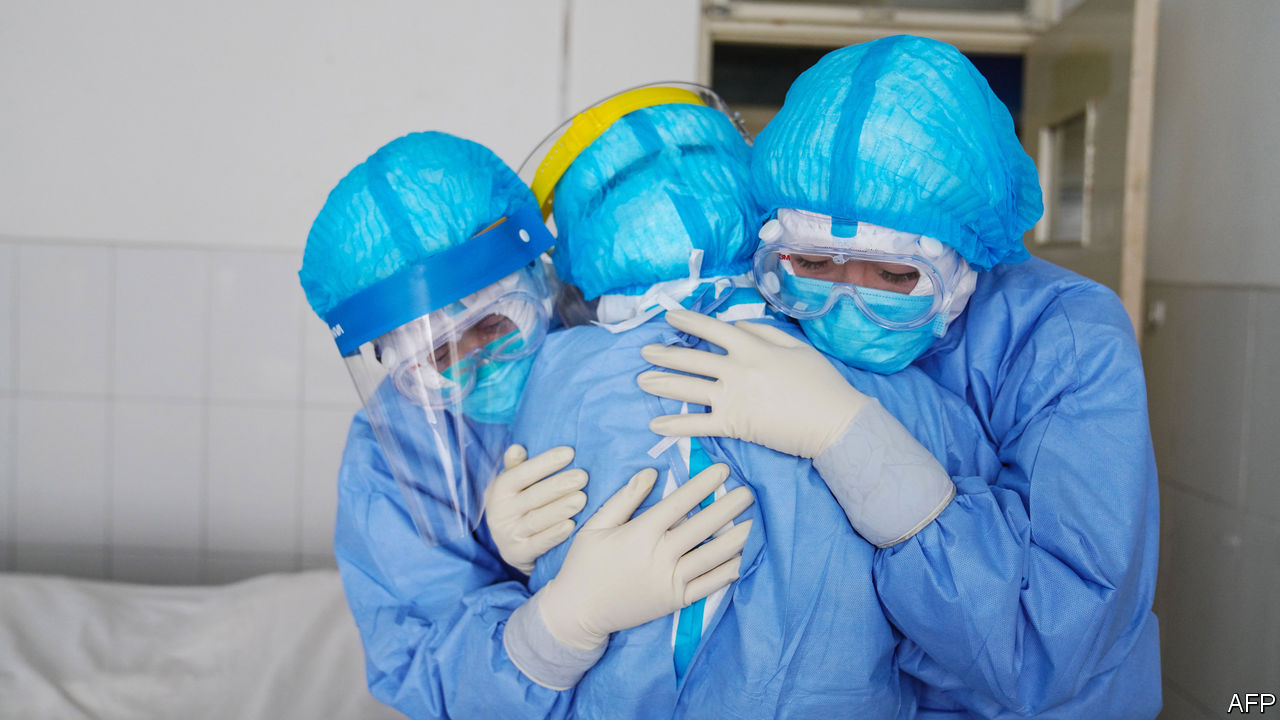Coverall: (501, 80, 960, 720), (749, 31, 1164, 720), (298, 130, 565, 720)
Face_Shield: (332, 228, 590, 551)
Gloves: (631, 305, 961, 547), (502, 462, 755, 691), (485, 441, 590, 574)
Goggles: (755, 234, 961, 339), (393, 295, 555, 404)
with_mask: (790, 276, 946, 374), (444, 338, 543, 424)
